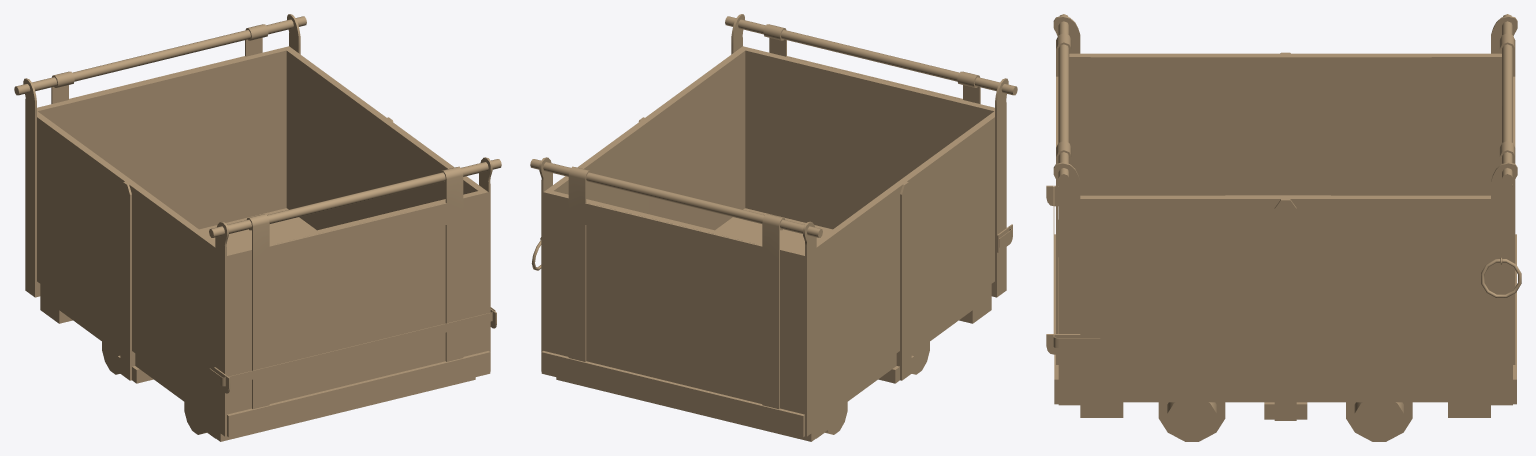
File: lava_minecart.fbx
3 renders of one model, left to right at view 1: azimuth 30°, elevation 25°; view 2: azimuth 150°, elevation 25°; view 3: azimuth 270°, elevation 25°, orthographic. The views are drawn at different scales.
Parts seen in each view (by area): view 1: minecart; view 2: minecart; view 3: minecart.
Boxes of the visible parts, <box> form: minecart: <box>14,14,501,441</box>; minecart: <box>530,14,1017,441</box>; minecart: <box>1046,14,1521,441</box>.
Size of the model in its own units: 220 by 194 by 276.
